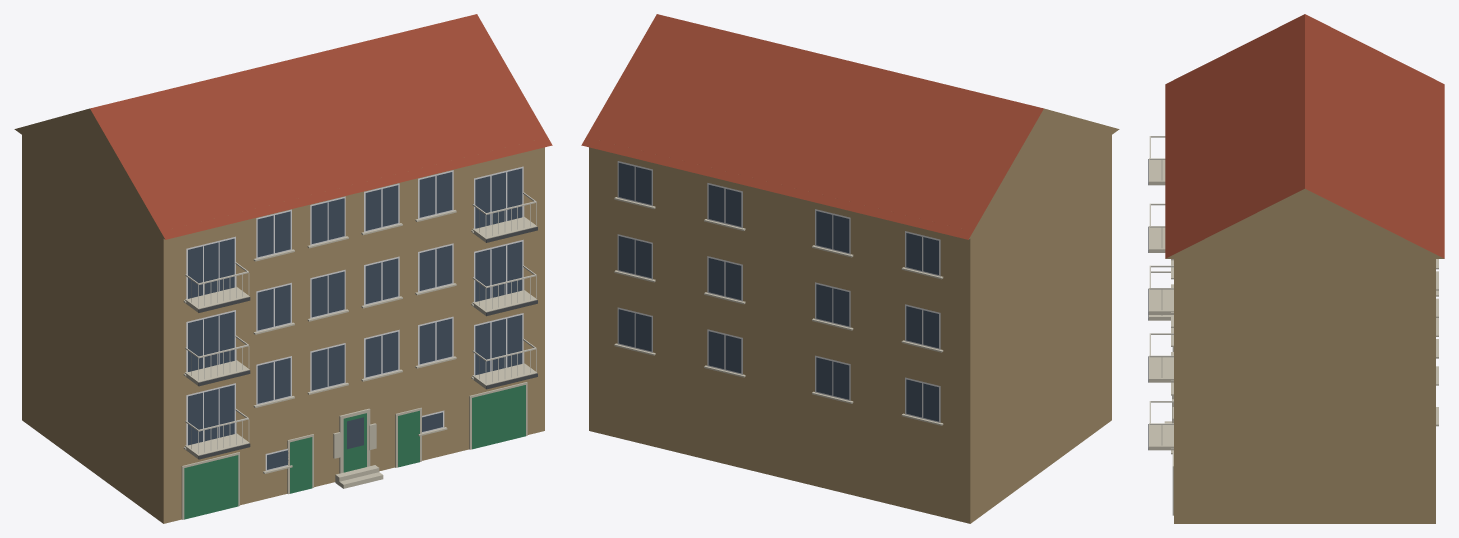
Rendered from nw-portiek-hof-garage-4st__buff-green-4w__4__gable__long__solid.glb.
3 renders of one model, left to right at view 1: azimuth 30°, elevation 25°; view 2: azimuth 150°, elevation 25°; view 3: azimuth 270°, elevation 25°, orthographic. The views are drawn at different scales.
Visible parts, largest first — view 1: nw-portiek-hof-garage-4st__buff-green-4w__4__gable__long__so; view 2: nw-portiek-hof-garage-4st__buff-green-4w__4__gable__long__so; view 3: nw-portiek-hof-garage-4st__buff-green-4w__4__gable__long__so.
Boxes of the visible parts, x1=… form: nw-portiek-hof-garage-4st__buff-green-4w__4__gable__long__so: x1=14, y1=14, x2=552, y2=523; nw-portiek-hof-garage-4st__buff-green-4w__4__gable__long__so: x1=581, y1=14, x2=1119, y2=523; nw-portiek-hof-garage-4st__buff-green-4w__4__gable__long__so: x1=1148, y1=14, x2=1444, y2=523.
Size of the model in its own units: 16.52 by 14.85 by 11.86.
